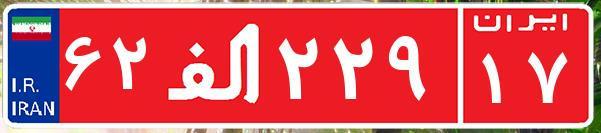1: (475, 38, 525, 113)
2: (273, 28, 330, 110), (330, 28, 385, 110), (110, 28, 158, 105)
6: (57, 26, 110, 107)
7: (525, 38, 570, 115)
9: (385, 28, 445, 110)
الف: (158, 15, 273, 115)
